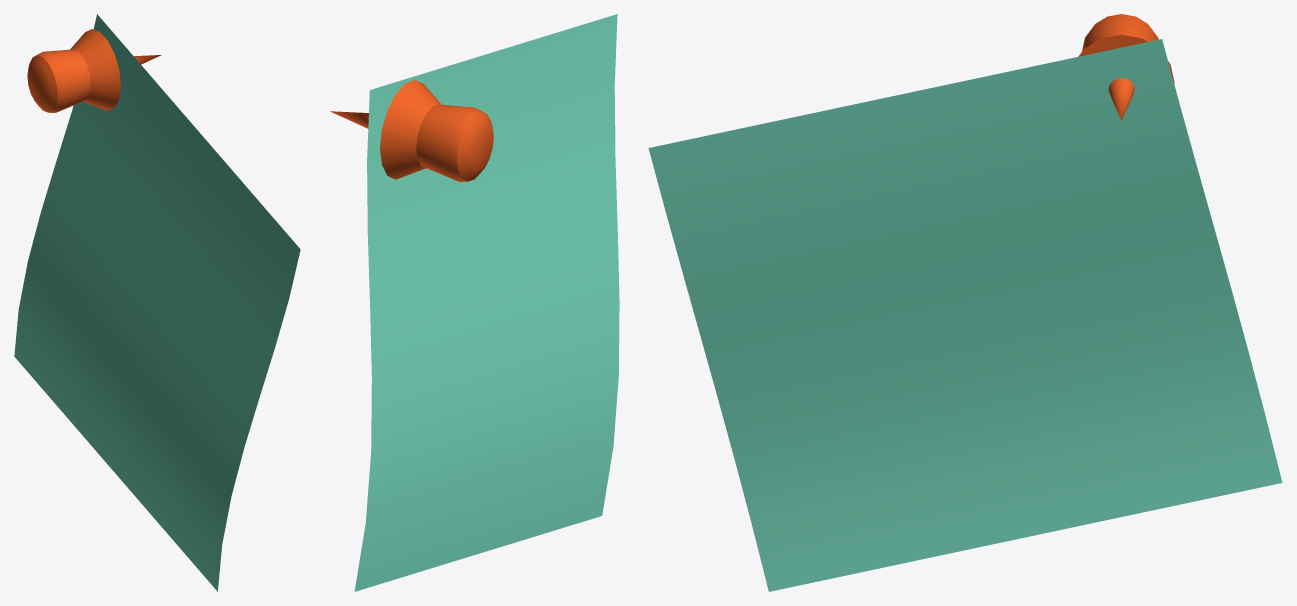
The model's file is papel_01.fbx.
3 views of the same model, side by side, from view 1: azimuth 30°, elevation 25°; view 2: azimuth 150°, elevation 25°; view 3: azimuth 270°, elevation 25° (orthographic). The views are drawn at different scales.
Parts seen in each view (by area): view 1: papel_01; view 2: papel_01; view 3: papel_01.
Boxes of the visible parts, x1,y1,x2,y2 form: papel_01: (14, 14, 300, 591); papel_01: (330, 14, 619, 591); papel_01: (648, 14, 1282, 591).
Bounding box in the file's own units: 21.22 × 73.18 × 73.18.
